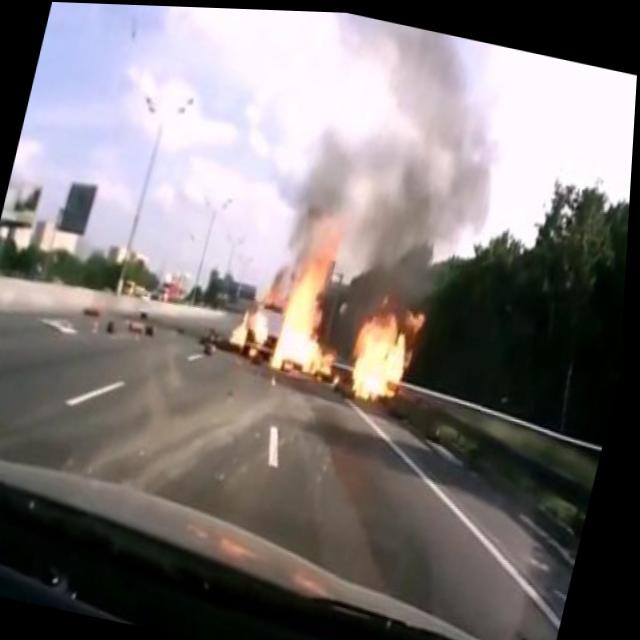fire: (220, 204, 446, 410)
